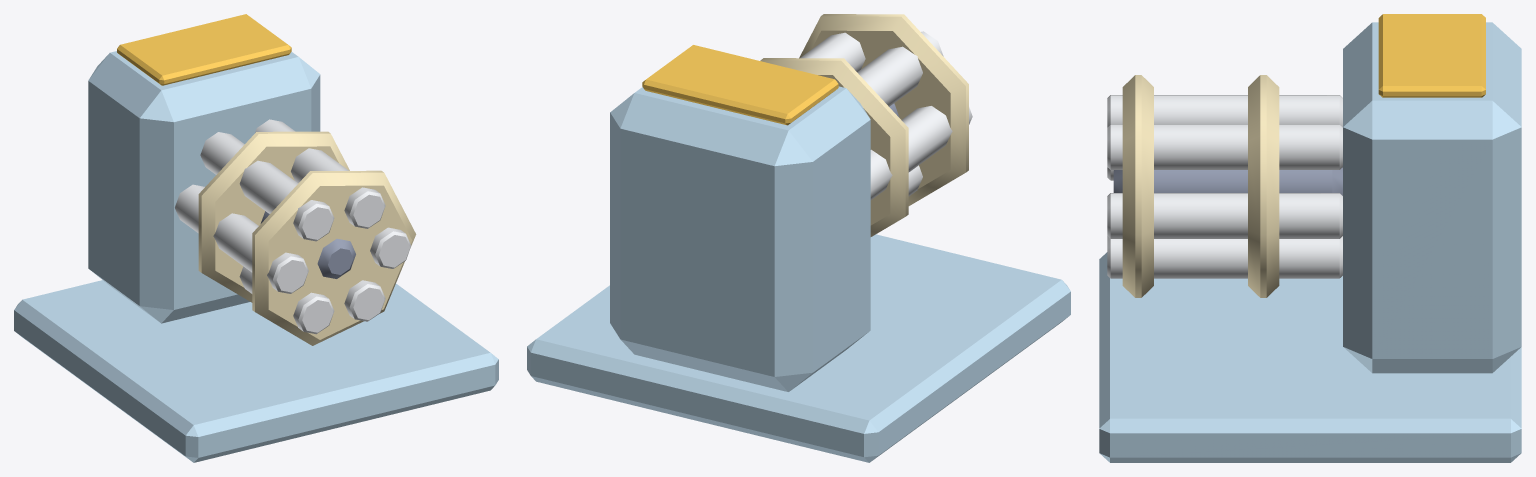
The model's file is R4X_RapidFire_LOD1.glb.
The picture shows the model from 3 angles, left to right: view 1: azimuth 30°, elevation 25°; view 2: azimuth 150°, elevation 25°; view 3: azimuth 270°, elevation 25°; orthographic projection. The views are drawn at different scales.
Visible parts, largest first — view 1: R4X_RapidFire_LOD1; view 2: R4X_RapidFire_LOD1; view 3: R4X_RapidFire_LOD1.
Part boxes in pixels (x1,y1,x2,y2): R4X_RapidFire_LOD1: [14, 14, 498, 462]; R4X_RapidFire_LOD1: [527, 14, 1070, 462]; R4X_RapidFire_LOD1: [1099, 14, 1521, 462].
Bounding box in the file's own units: 0.52 × 0.4457 × 0.52.
